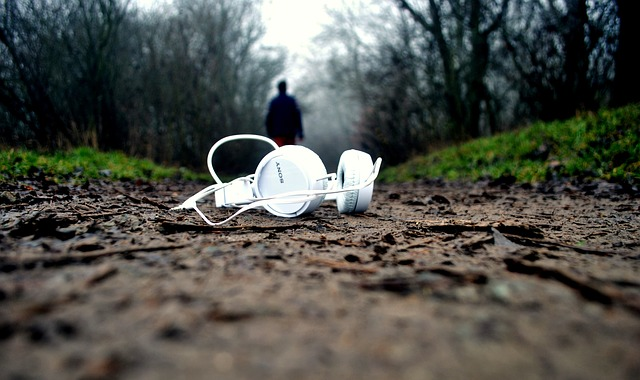headphones: (215, 145, 375, 219)
